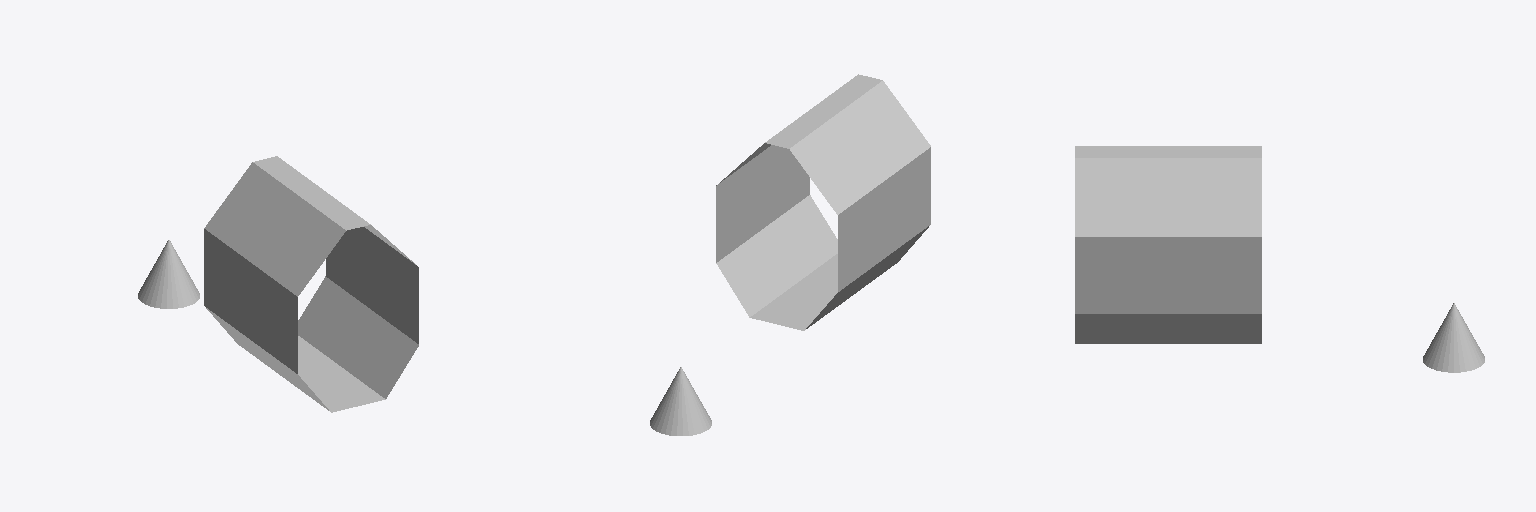
File: gungame2.obj
The picture shows the model from 3 angles: view 1: azimuth 30°, elevation 25°; view 2: azimuth 150°, elevation 25°; view 3: azimuth 270°, elevation 25°; orthographic projection.
Parts seen in each view (by area): view 1: Plane_Plane.001, Cone; view 2: Plane_Plane.001, Cone; view 3: Plane_Plane.001, Cone.
Boxes of the visible parts, x1,y1,x2,y2 form: Plane_Plane.001: [204, 156, 418, 412]; Cone: [138, 240, 199, 308]; Plane_Plane.001: [716, 74, 930, 330]; Cone: [650, 367, 711, 435]; Plane_Plane.001: [1075, 146, 1261, 343]; Cone: [1423, 303, 1484, 372].
Bounding box in the file's own units: 4.46 × 7.26 × 13.07.